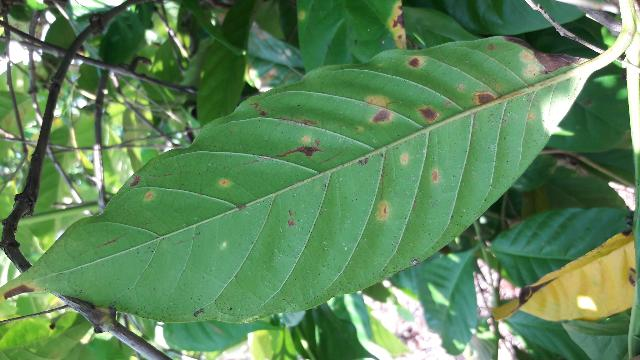red_spider_mite: (1, 38, 594, 326)
